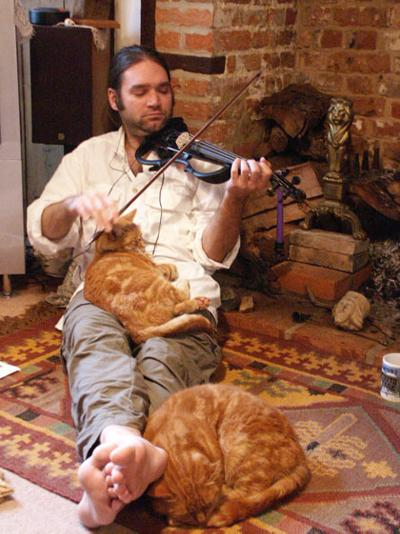person: (28, 47, 275, 527)
